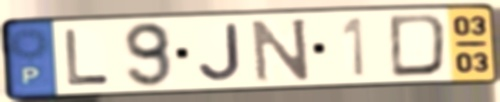1: (339, 15, 369, 80)
9: (120, 19, 176, 91)
D: (387, 11, 451, 80)
J: (195, 21, 245, 84)
L: (62, 27, 113, 89)
N: (248, 16, 314, 85)
